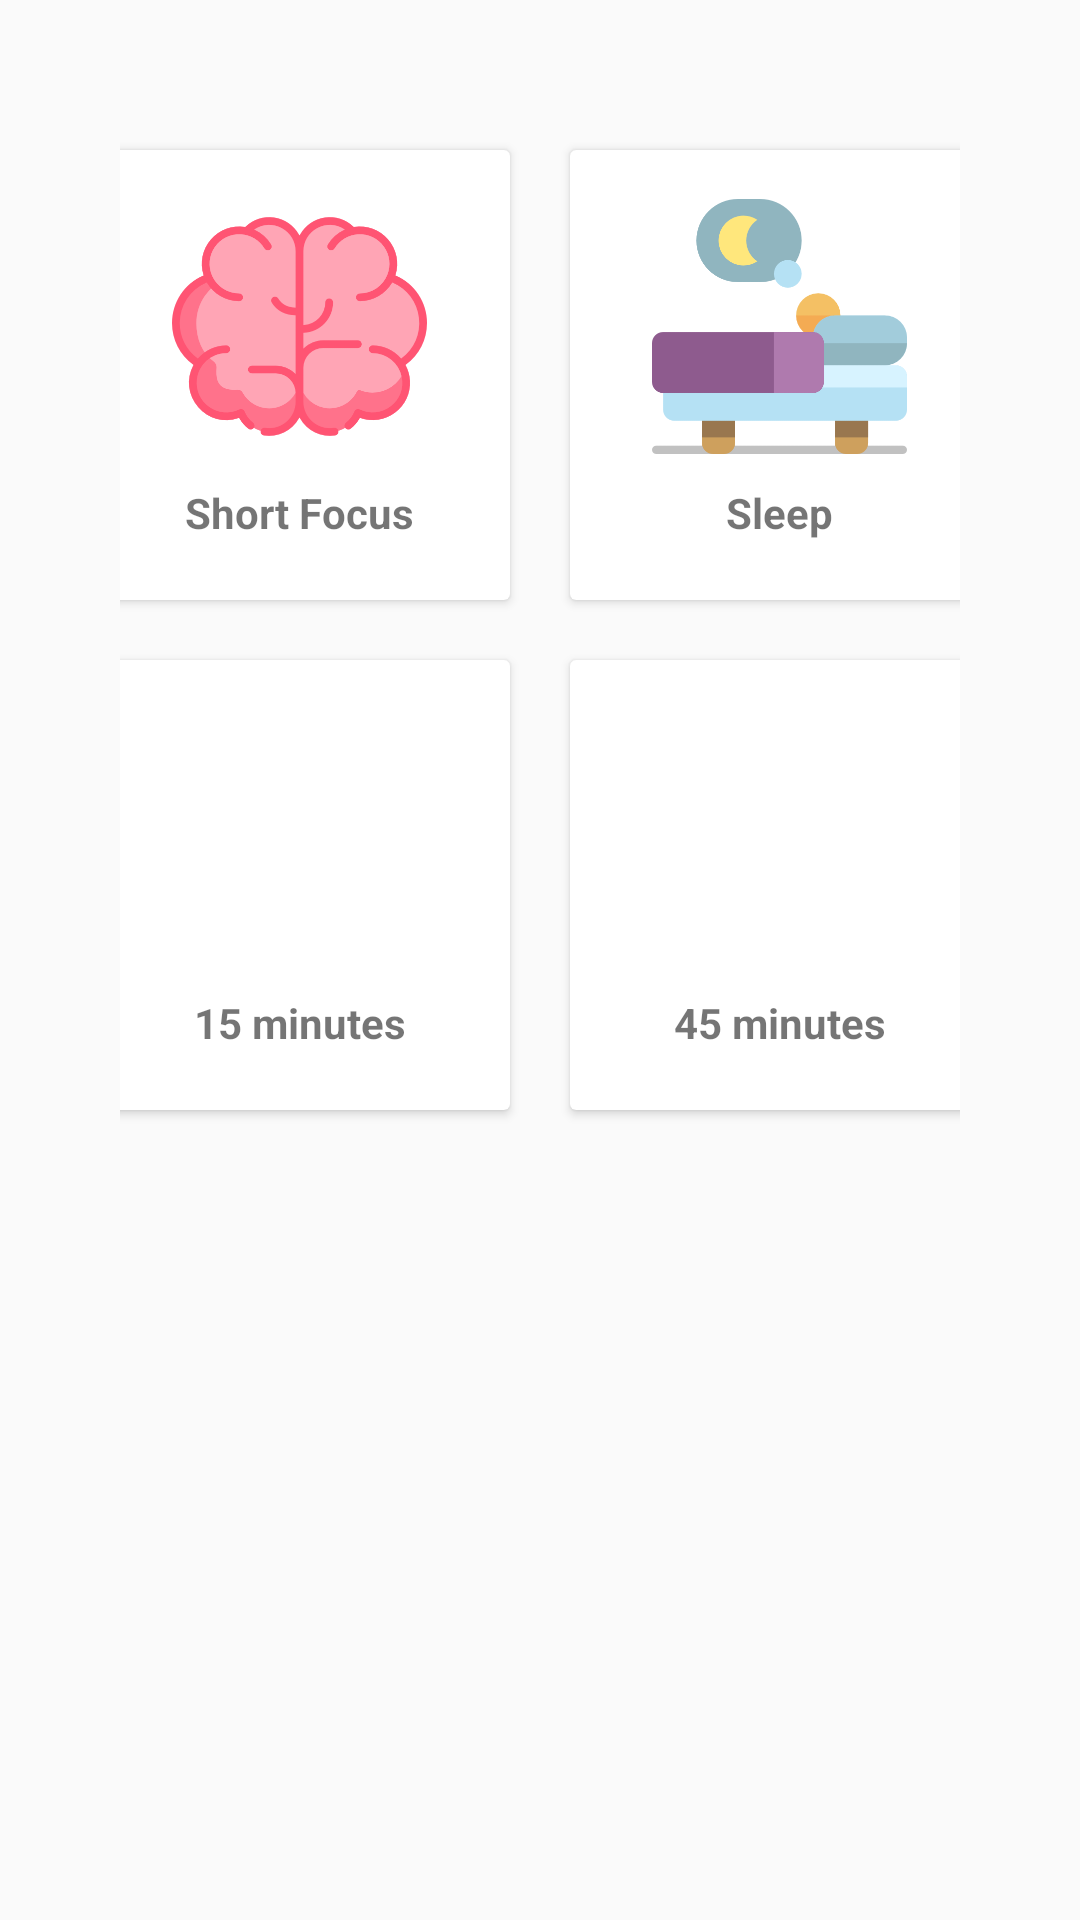

Icon click points for this 1080*1920 phone screenshot, format (x=x, y=y):
brain: (x=299, y=326)
